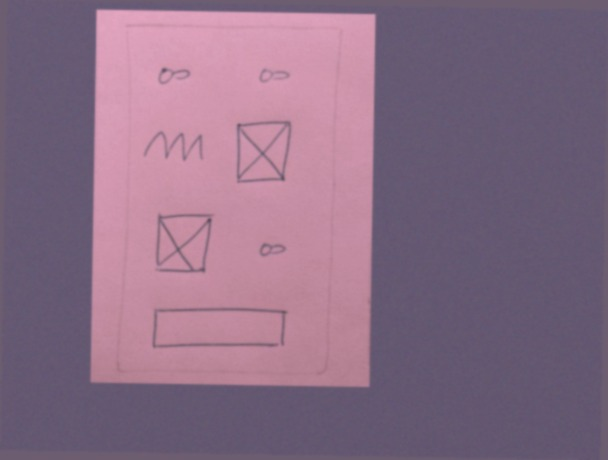image: (148, 203, 225, 279), (228, 115, 298, 190)
switch: (248, 234, 296, 269), (151, 59, 195, 95), (253, 59, 296, 92)
text: (141, 126, 205, 166)
text_input: (142, 300, 295, 358)
